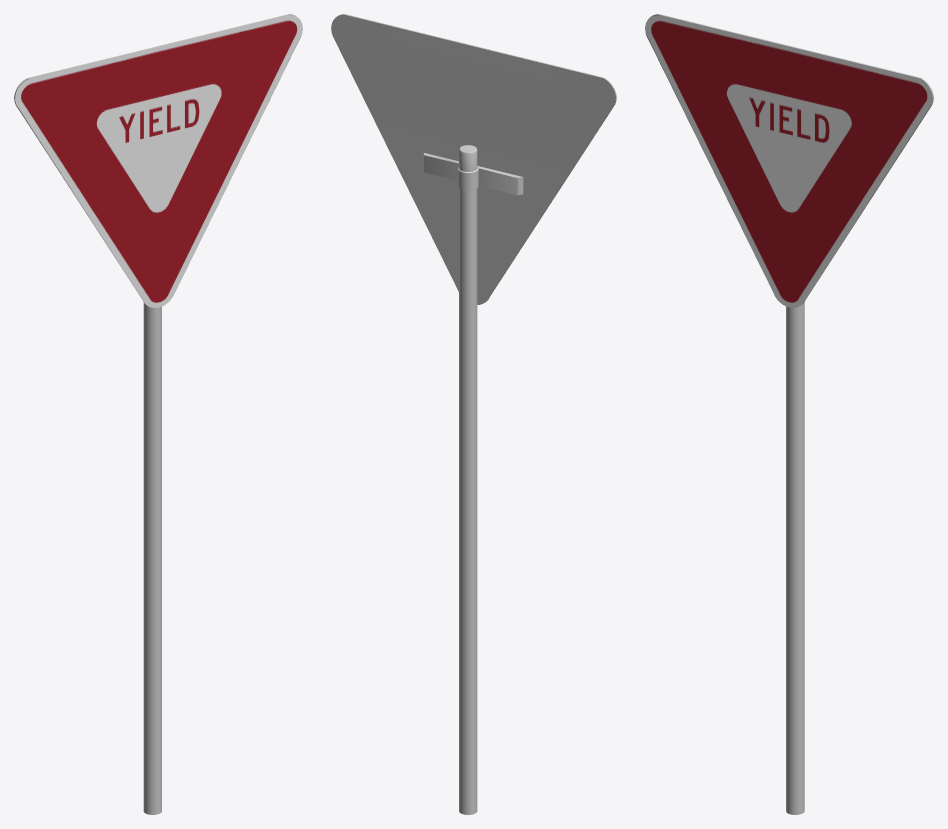
File: yield.glb
3 views of the same model, side by side, from view 1: azimuth 30°, elevation 25°; view 2: azimuth 150°, elevation 25°; view 3: azimuth 330°, elevation 25° (orthographic).
Visible parts, largest first — view 1: Give way sign_0; view 2: Give way sign_0; view 3: Give way sign_0.
Boxes of the visible parts, x1=… form: Give way sign_0: x1=14, y1=14, x2=302, y2=814; Give way sign_0: x1=331, y1=14, x2=616, y2=814; Give way sign_0: x1=645, y1=14, x2=933, y2=814.
Size of the model in its own units: 0.9 by 2.3 by 0.0617.
Materials: 2 (1 with a texture image).
